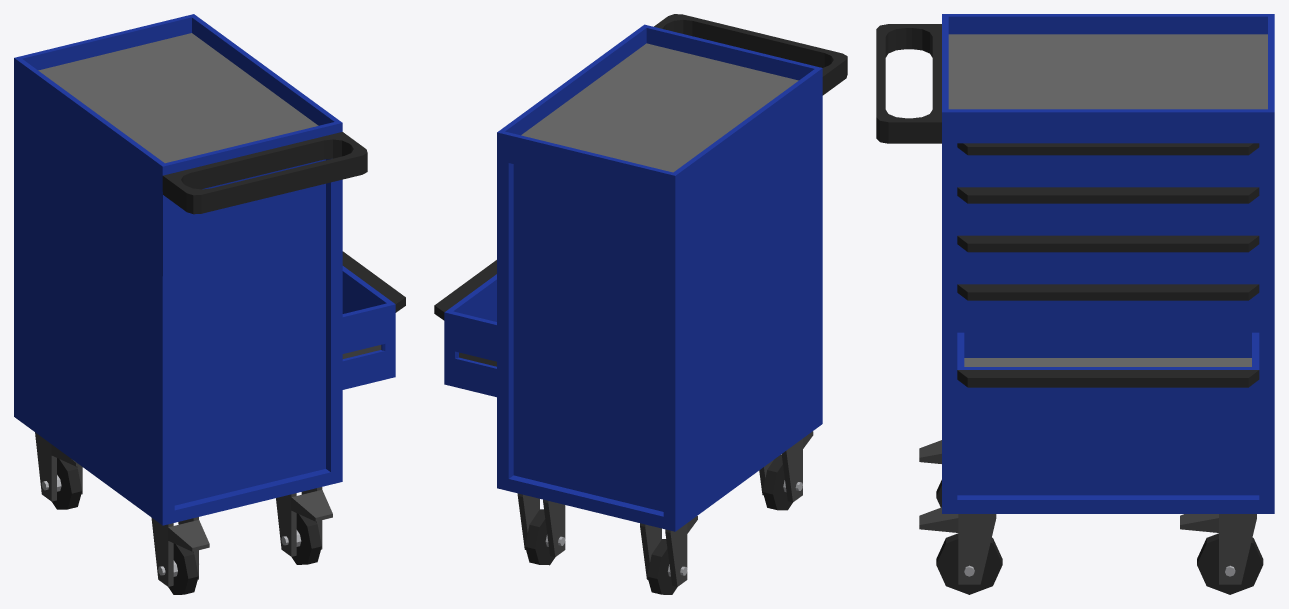
Rendered from ToolBox.fbx.
3 renders of one model, left to right at view 1: azimuth 30°, elevation 25°; view 2: azimuth 150°, elevation 25°; view 3: azimuth 270°, elevation 25°, orthographic. The views are drawn at different scales.
Parts seen in each view (by area): view 1: ToolBox_01, ToolBox_02; view 2: ToolBox_01, ToolBox_02; view 3: ToolBox_01, ToolBox_02.
Boxes of the visible parts, <box> form: ToolBox_01: <box>14,14,367,594</box>; ToolBox_02: <box>342,251,405,389</box>; ToolBox_01: <box>497,14,847,594</box>; ToolBox_02: <box>434,260,496,397</box>; ToolBox_01: <box>876,14,1274,594</box>; ToolBox_02: <box>957,332,1259,451</box>.
Size of the model in its own units: 50.83 by 84.5 by 61.54.
